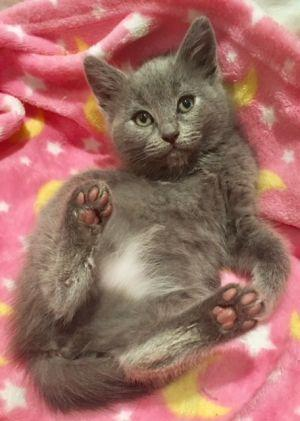rblue: (80, 12, 252, 194)
